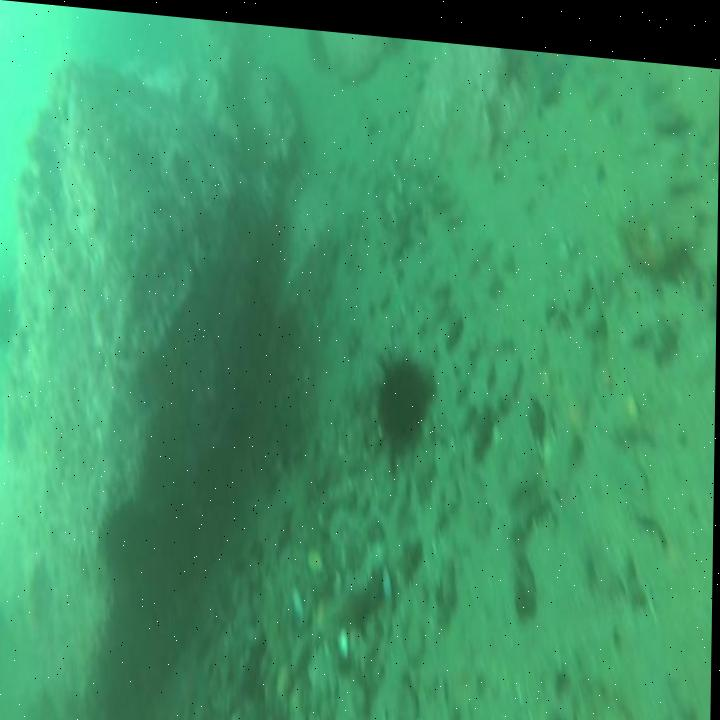echinus: (381, 356, 428, 438)
